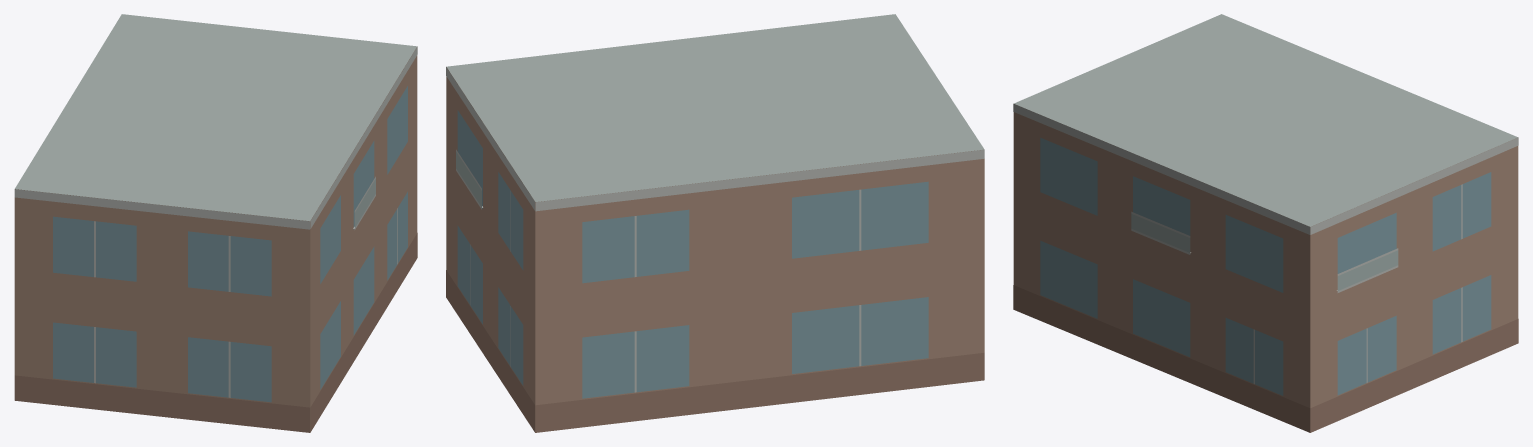
The model's file is survey-upis-32808222.glb.
The picture shows the model from 3 angles, left to right: view 1: azimuth 30°, elevation 25°; view 2: azimuth 150°, elevation 25°; view 3: azimuth 270°, elevation 25°; orthographic projection. The views are drawn at different scales.
Parts seen in each view (by area): view 1: survey-upis-32808222.tmp; view 2: survey-upis-32808222.tmp; view 3: survey-upis-32808222.tmp.
Part boxes in pixels (box(x1,y1,x2,y2)): survey-upis-32808222.tmp: box(14, 14, 417, 432); survey-upis-32808222.tmp: box(446, 14, 984, 432); survey-upis-32808222.tmp: box(1013, 14, 1518, 432).
Bounding box in the file's own units: 13.53 × 6.1 × 13.56.
